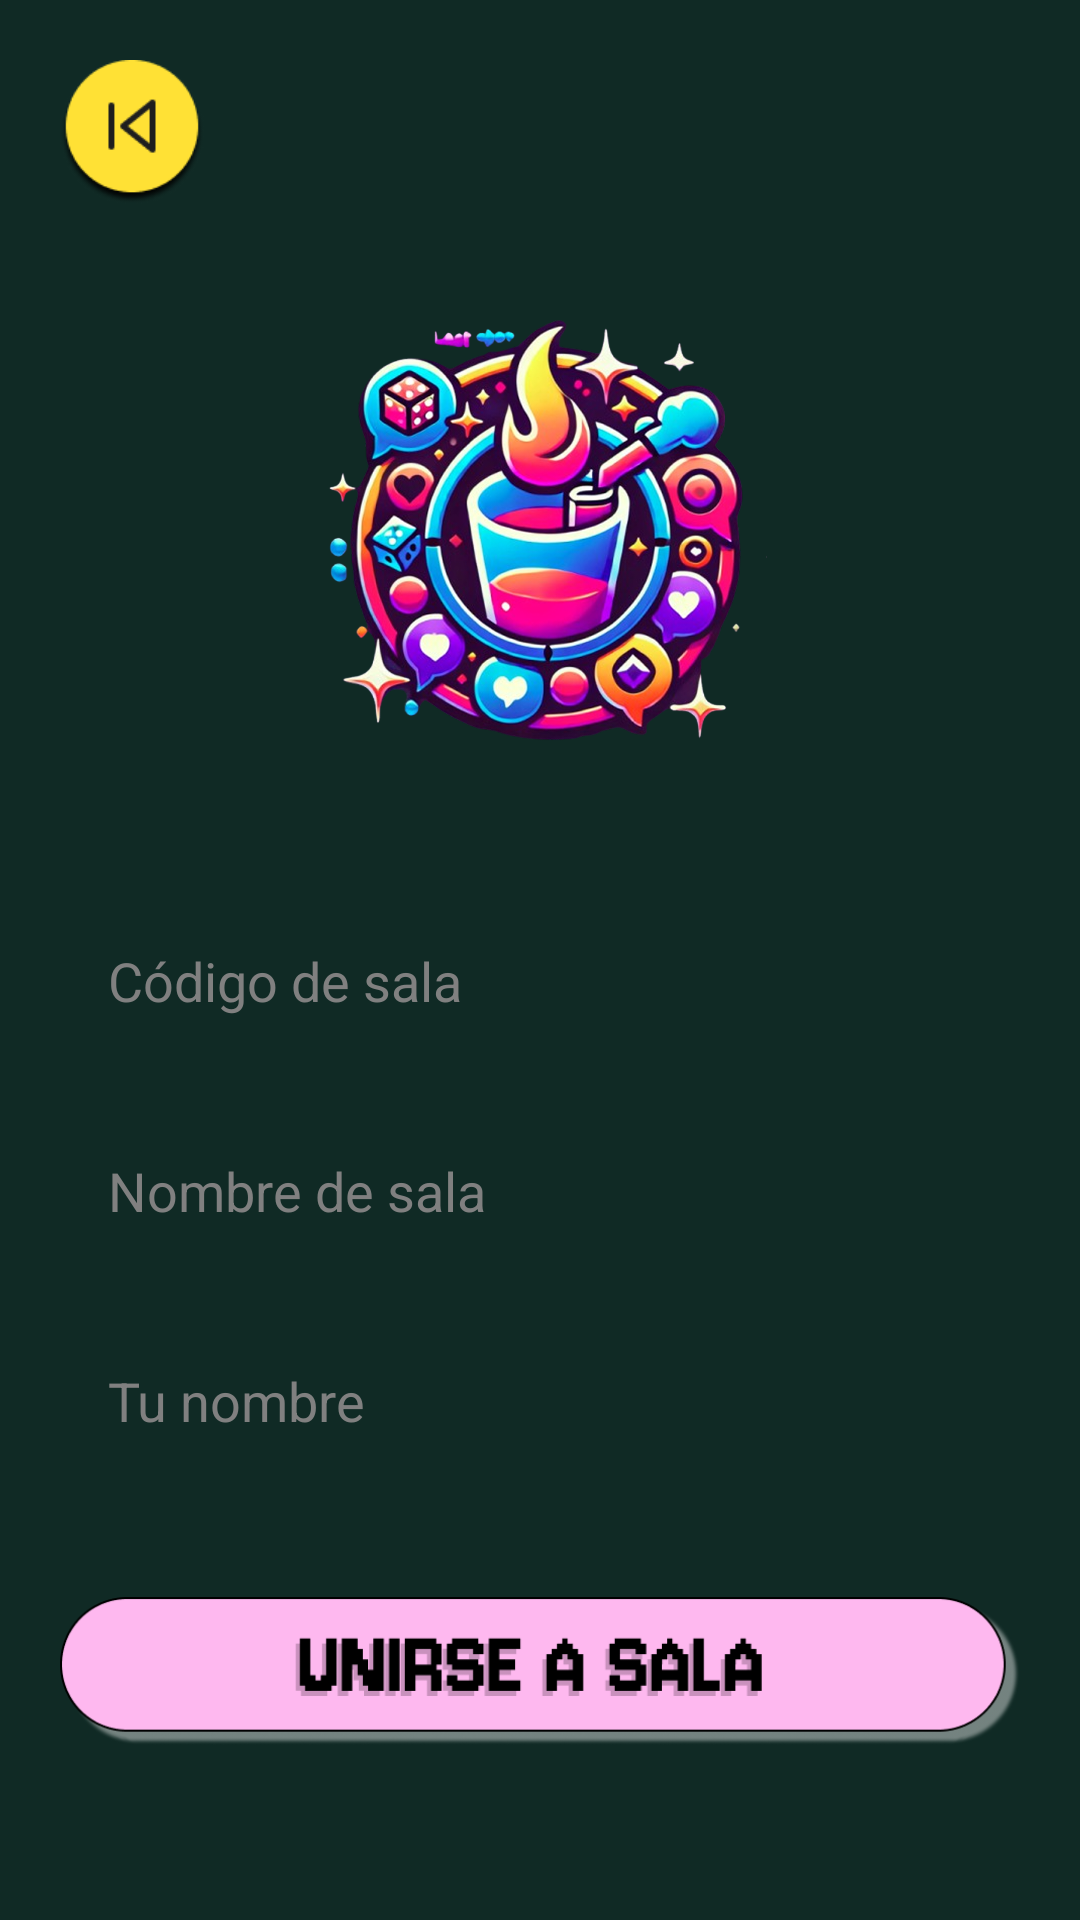

Icons on this 1080×1920 Android screen, each with its box as [left=x1, top=y1, right=x2, bottom=y2]:
Volver: [left=65, top=60, right=199, bottom=197]
